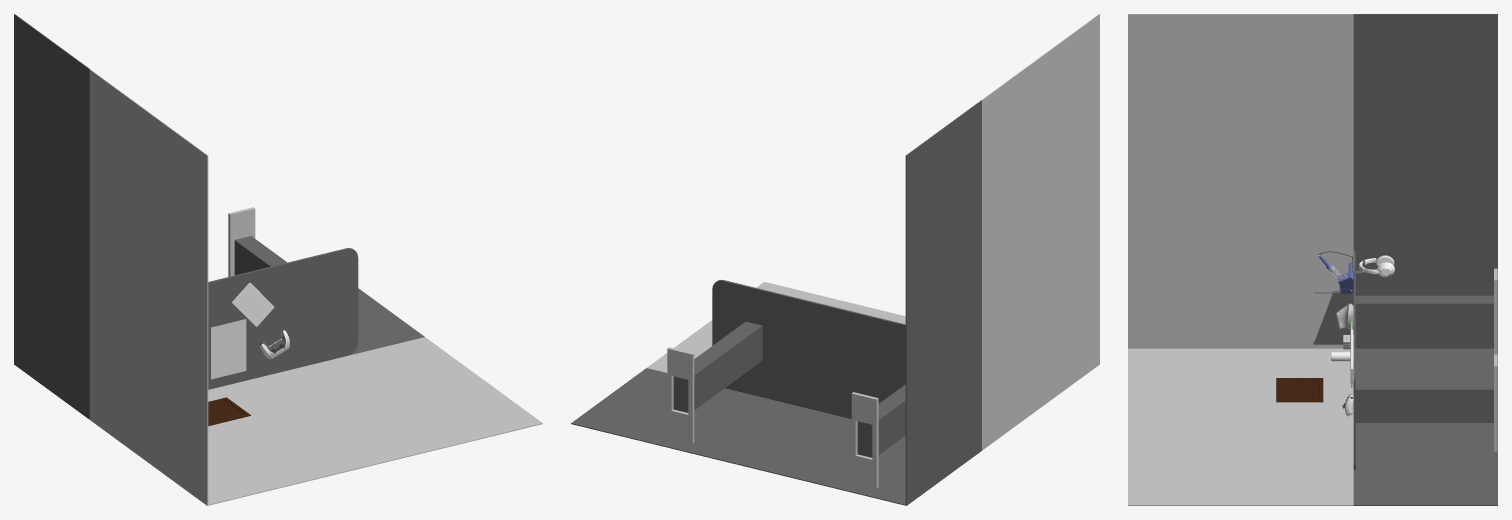
The model's file is Desk-8-compressed.glb.
3 renders of one model, left to right at view 1: azimuth 30°, elevation 25°; view 2: azimuth 150°, elevation 25°; view 3: azimuth 270°, elevation 25°, orthographic. The views are drawn at different scales.
Parts seen in each view (by area): view 1: Body4_1, Body1_1, Body5_1, Body3_1, pCube1, MeshBody1_13; view 2: Body1_1, Body4_1, Body2_1, Body3_1; view 3: Body4_1, Body1_1, MeshBody1_13, MeshBody2__2_, Body7.
Boxes of the visible parts, x1=… form: Body4_1: x1=89, y1=69, x2=542, y2=505; Body1_1: x1=14, y1=14, x2=424, y2=419; Body5_1: x1=211, y1=319, x2=246, y2=379; Body3_1: x1=228, y1=207, x2=255, y2=276; pCube1: x1=232, y1=282, x2=274, y2=326; MeshBody1_13: x1=208, y1=397, x2=250, y2=425; Body1_1: x1=571, y1=100, x2=981, y2=505; Body4_1: x1=647, y1=14, x2=1099, y2=450; Body2_1: x1=851, y1=392, x2=878, y2=488; Body3_1: x1=667, y1=347, x2=694, y2=443; Body4_1: x1=1128, y1=14, x2=1353, y2=505; Body1_1: x1=1313, y1=14, x2=1497, y2=505; MeshBody1_13: x1=1276, y1=378, x2=1323, y2=402; MeshBody2__2_: x1=1359, y1=255, x2=1394, y2=277; Body7: x1=1314, y1=293, x2=1332, y2=340.
Size of the model in its own units: 2005 by 2000 by 2000.
Materials: 12 (3 with a texture image).
